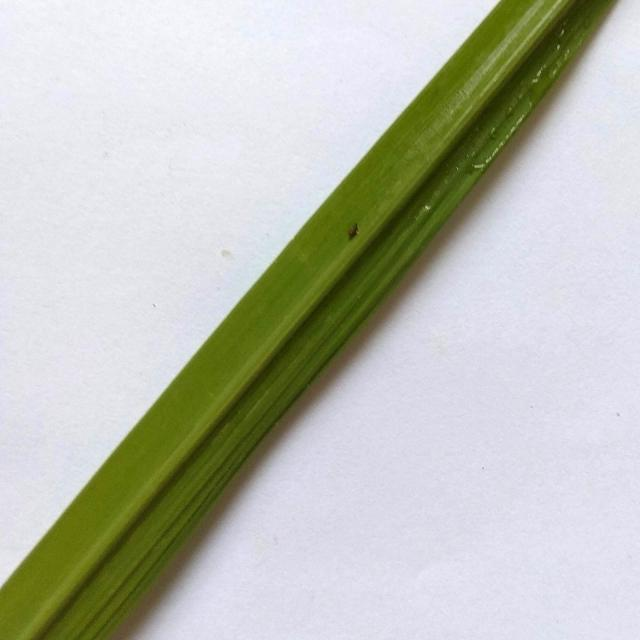healthy: (0, 0, 620, 640)
